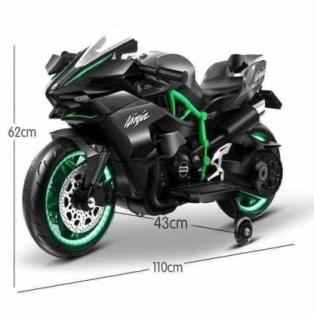Motocicleta: (24, 43, 285, 263)
